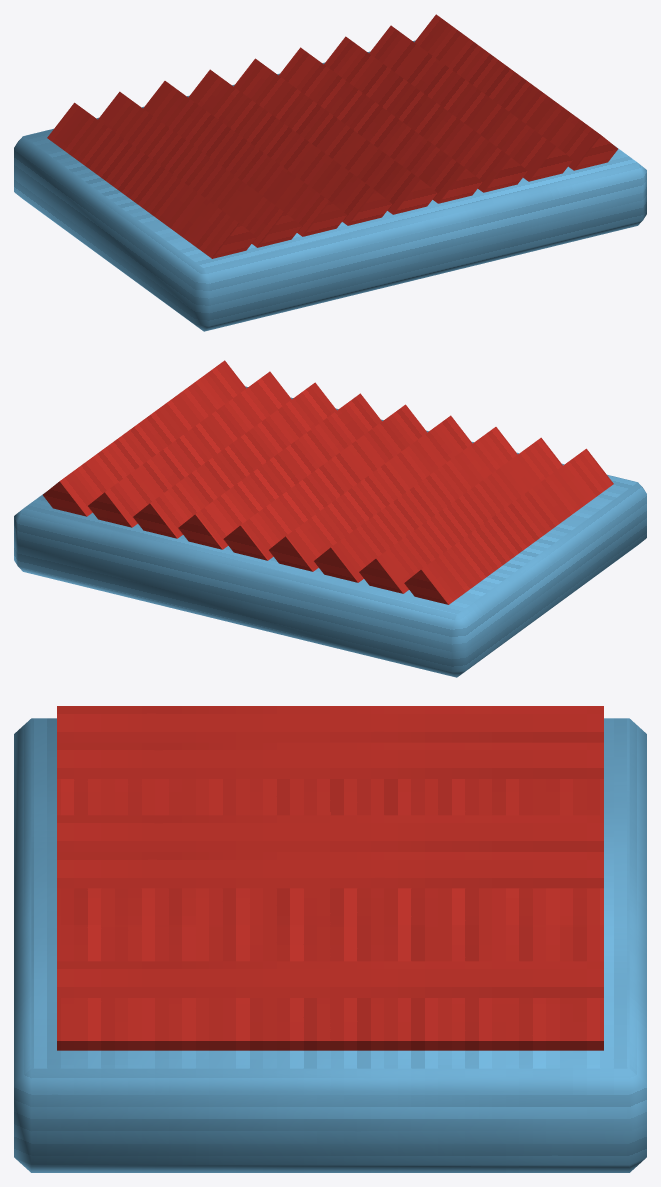
File: filtro_ar_n1.glb
3 views of the same model, one above another, from view 1: azimuth 30°, elevation 25°; view 2: azimuth 150°, elevation 25°; view 3: azimuth 270°, elevation 25° (orthographic). The views are drawn at different scales.
Parts seen in each view (by area): view 1: filtro_ar_n1; view 2: filtro_ar_n1; view 3: filtro_ar_n1.
Part boxes in pixels (<box>): filtro_ar_n1: <box>14,14,646,331</box>; filtro_ar_n1: <box>14,360,646,677</box>; filtro_ar_n1: <box>14,706,646,1172</box>.
Size of the model in its own units: 0.3 by 0.0583 by 0.22.
1 material, 1 textured.
